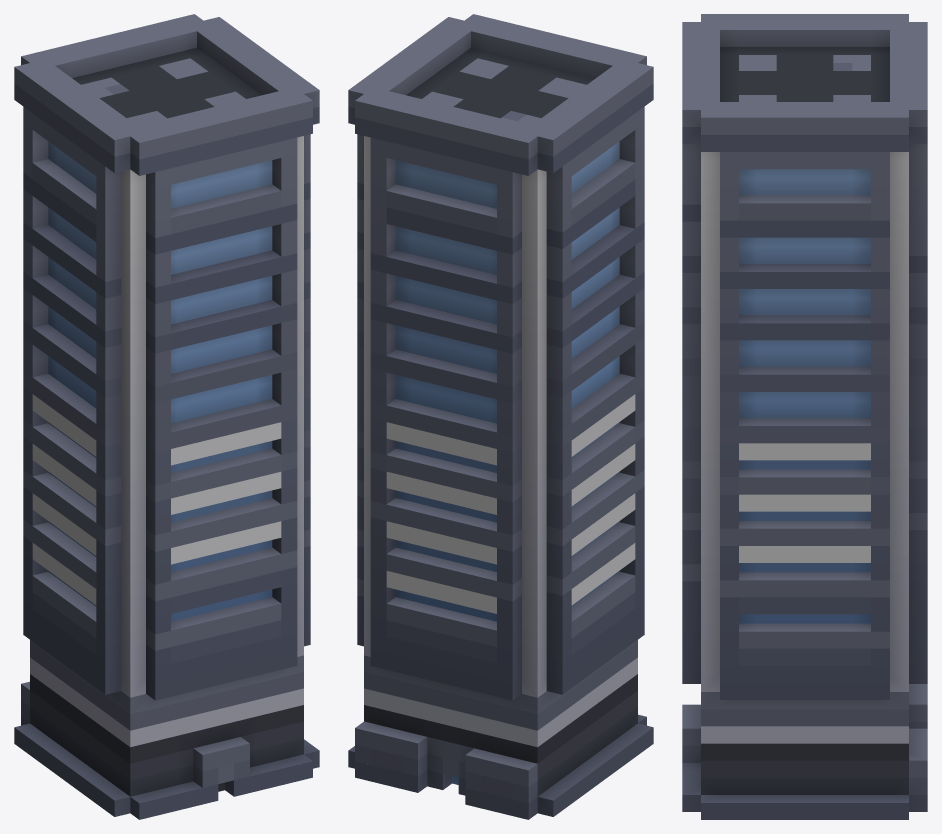
The model's file is skyscraper_b.glb.
The picture shows the model from 3 angles, left to right: view 1: azimuth 30°, elevation 25°; view 2: azimuth 150°, elevation 25°; view 3: azimuth 270°, elevation 25°; orthographic projection. The views are drawn at different scales.
Parts seen in each view (by area): view 1: voxels; view 2: voxels; view 3: voxels.
Boxes of the visible parts, x1,y1,x2,y2 form: voxels: (14, 14, 319, 819); voxels: (348, 14, 653, 819); voxels: (682, 14, 927, 819).
Bounding box in the file's own units: 1.46 × 4.59 × 1.46.
